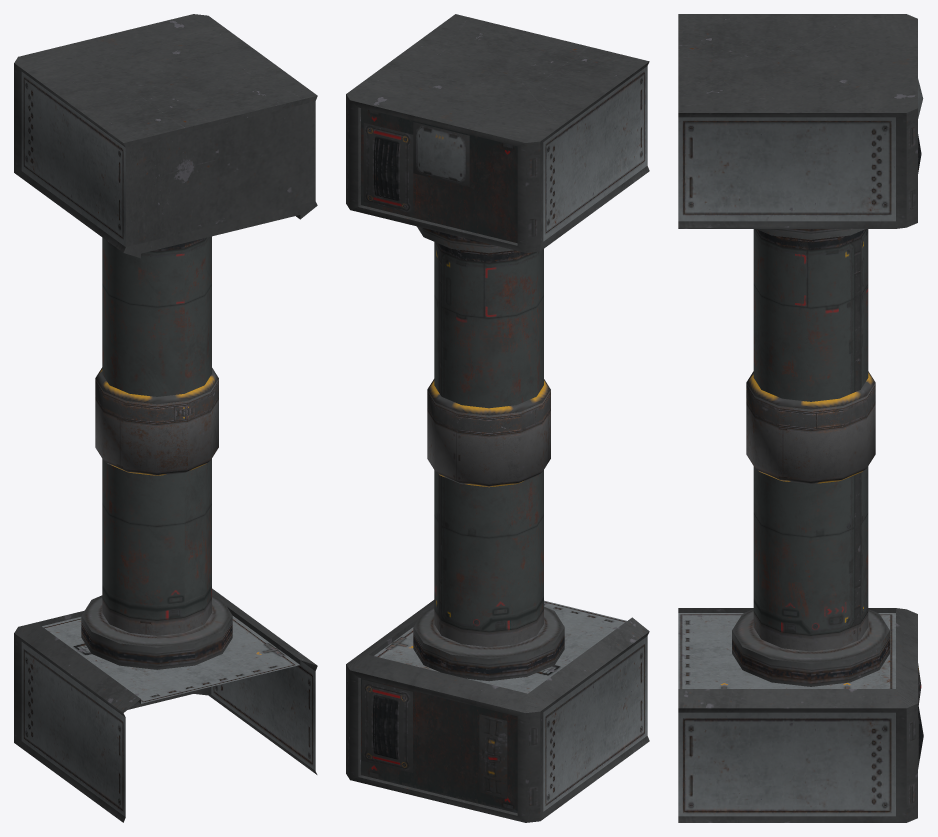
The model's file is ARC0910114.fbx.
3 renders of one model, left to right at view 1: azimuth 30°, elevation 25°; view 2: azimuth 150°, elevation 25°; view 3: azimuth 270°, elevation 25°, orthographic. The views are drawn at different scales.
Parts seen in each view (by area): view 1: smARC0910114; view 2: smARC0910114; view 3: smARC0910114.
Part boxes in pixels (x1=…): smARC0910114: x1=14, y1=14, x2=317, y2=822; smARC0910114: x1=346, y1=14, x2=649, y2=822; smARC0910114: x1=678, y1=14, x2=923, y2=822.
Size of the model in its own units: 89.73 by 300 by 94.05.
Materials: 1 (1 with a texture image).
